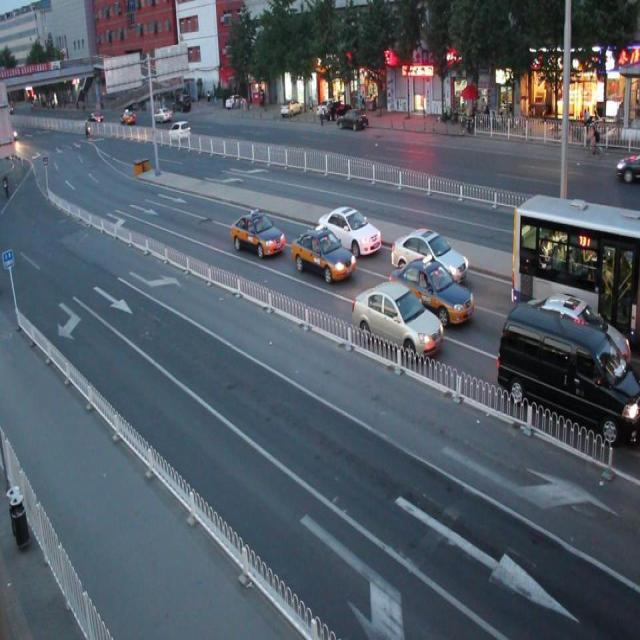BigCar: (511, 188, 638, 310)
car: (505, 300, 639, 446), (354, 282, 444, 370), (391, 256, 478, 324), (291, 228, 355, 295), (395, 226, 472, 279), (322, 192, 385, 256), (231, 209, 287, 263), (615, 150, 640, 185), (338, 108, 369, 136), (280, 97, 304, 119), (170, 119, 190, 145), (117, 107, 139, 129), (153, 105, 172, 127), (85, 110, 105, 128)
